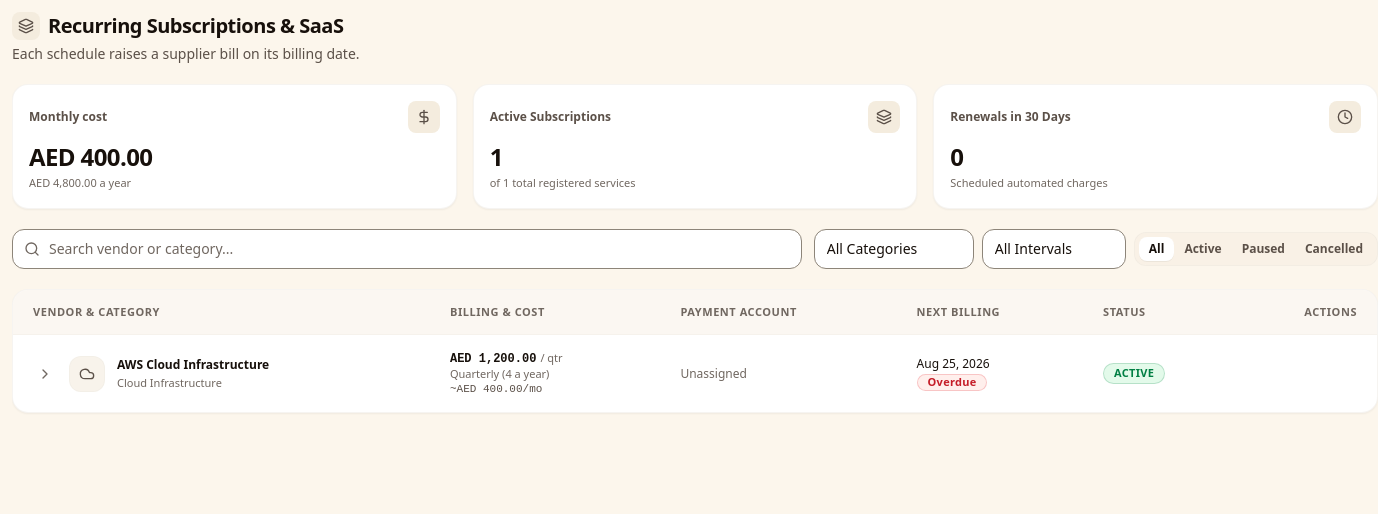
Scenario: SubscriptionsTable badges and history › shows the interval and expands to the bills it created
Expected: the text with test id "sub-interval-sub-1" shows "Quarterly", [450,366,550,381]
What coordinates should you click on to do the following:
click the button with test id "btn-expand-sub-sub-1"
I would click on:
 (45, 374)
Its box is [33,362,57,386].
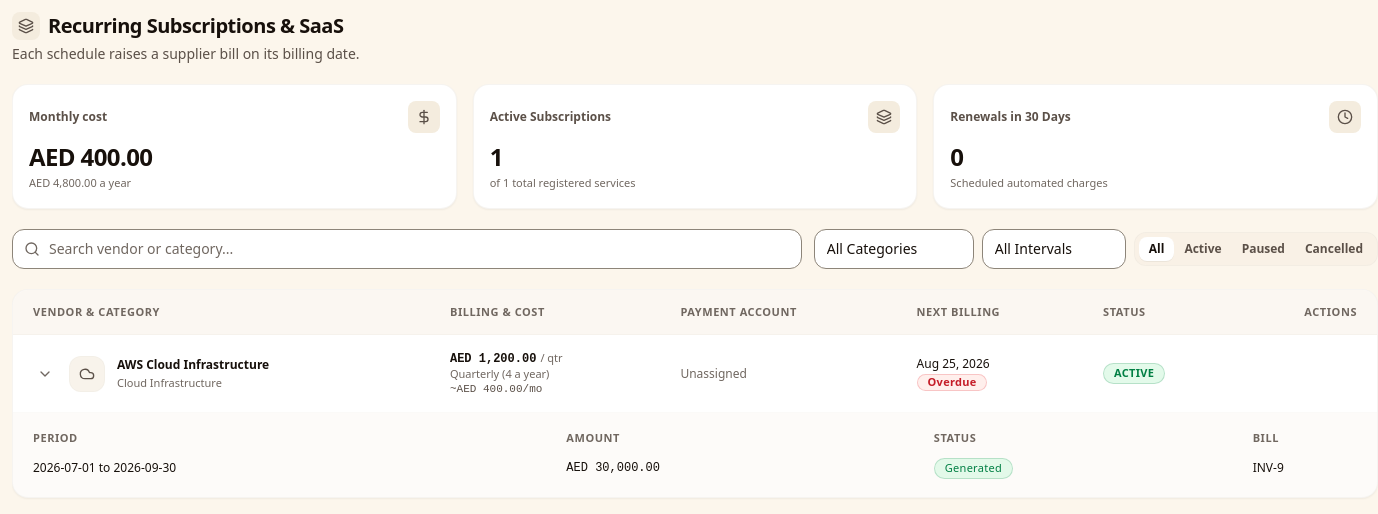
Expected: the row with test id "occurrence-occ-1" shows "INV-9", [1253,459,1284,476]
